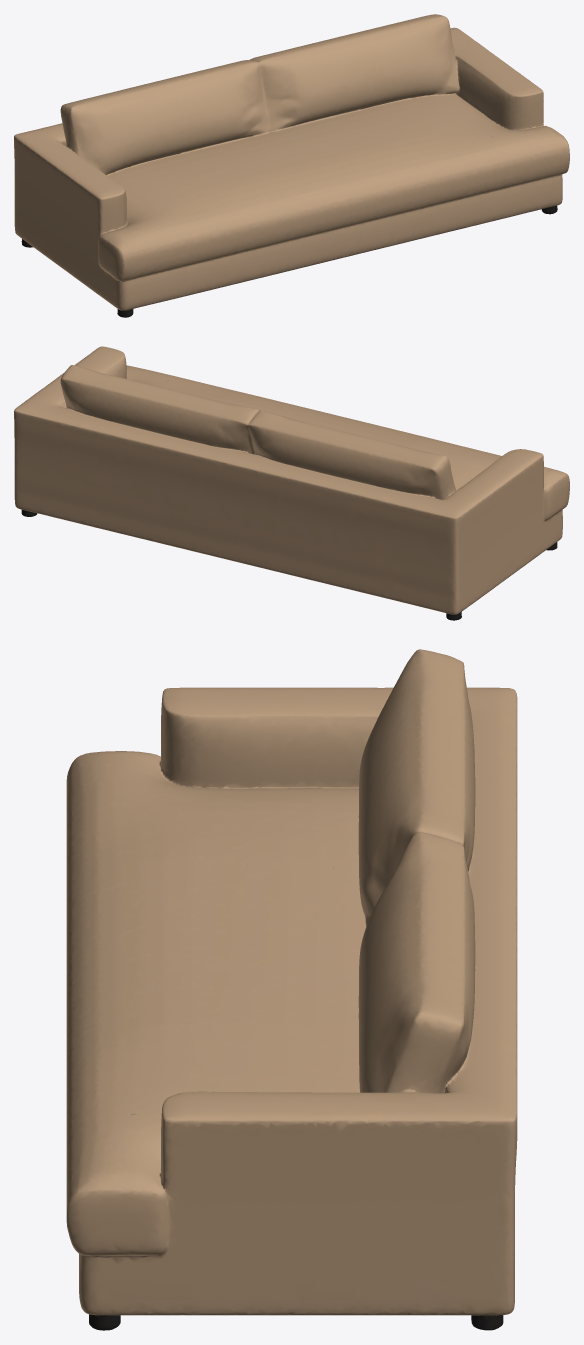
Rendered from linen-sofa.glb.
The picture shows the model from 3 angles, top to bottom: view 1: azimuth 30°, elevation 25°; view 2: azimuth 150°, elevation 25°; view 3: azimuth 270°, elevation 25°; orthographic projection. The views are drawn at different scales.
Visible parts, largest first — view 1: world; view 2: world; view 3: world.
Part boxes in pixels (left/top/right/bottom): world: left=14, top=14, right=569, bottom=317; world: left=14, top=346, right=569, bottom=620; world: left=66, top=649, right=517, bottom=1330.
Bounding box in the file's own units: 1 × 0.3058 × 0.4335.
Materials: 1 (1 with a texture image).
